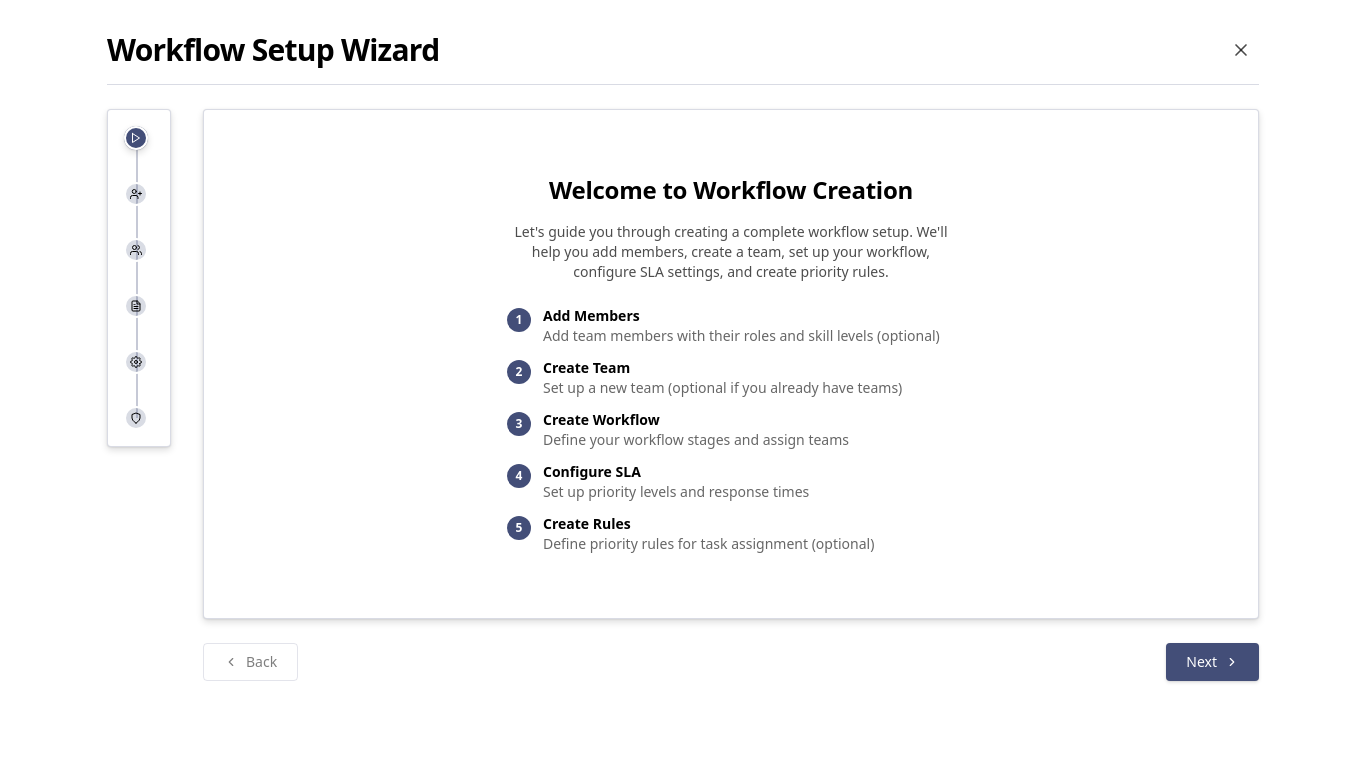
Test: WorkflowWizard › renders and can navigate steps
Expected: the heading "Workflow Setup Wizard" is shown, [107,32,439,68]
Click the button "Next" at (1213, 662), box [1166,643,1259,681]
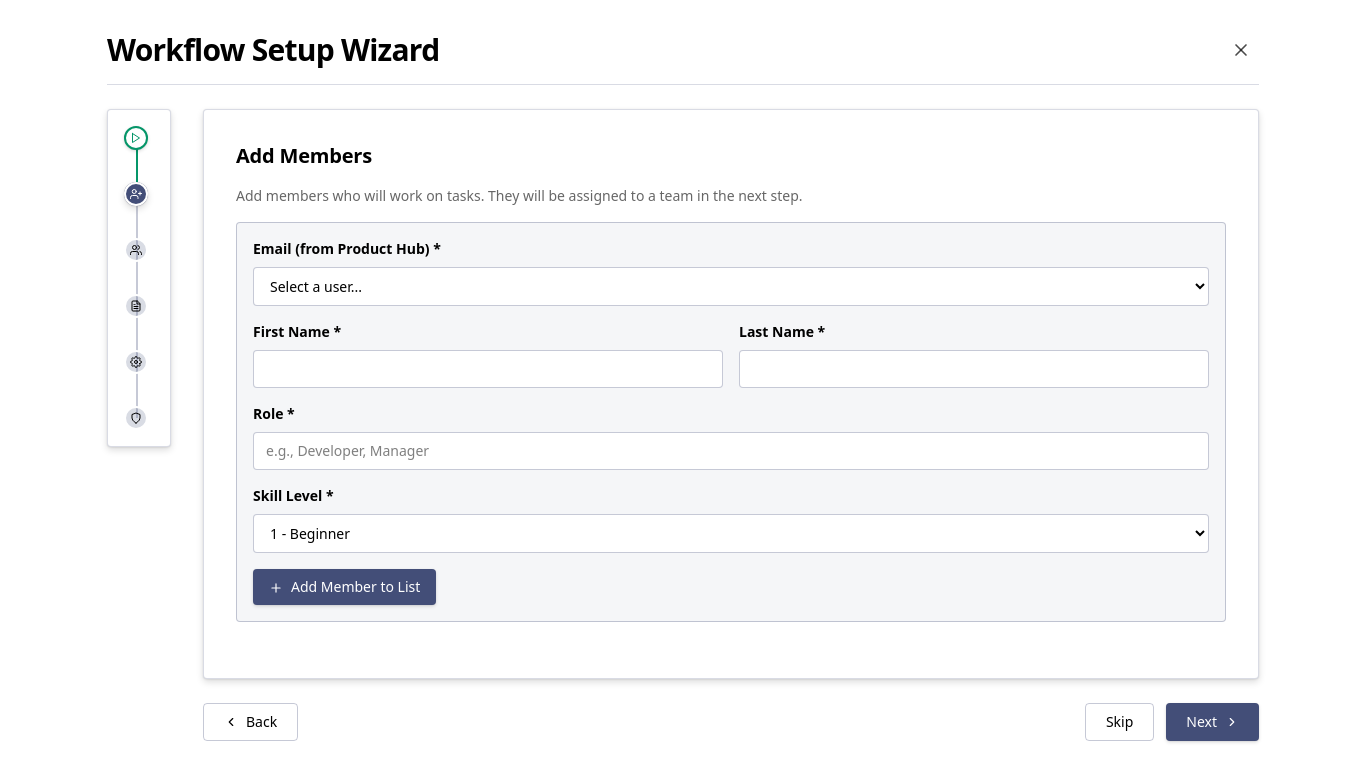
Result: the heading "Add Members" is shown at [236,142,372,169]
